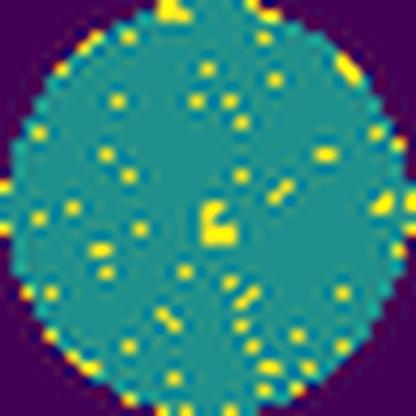Center: (192, 194, 242, 256)
